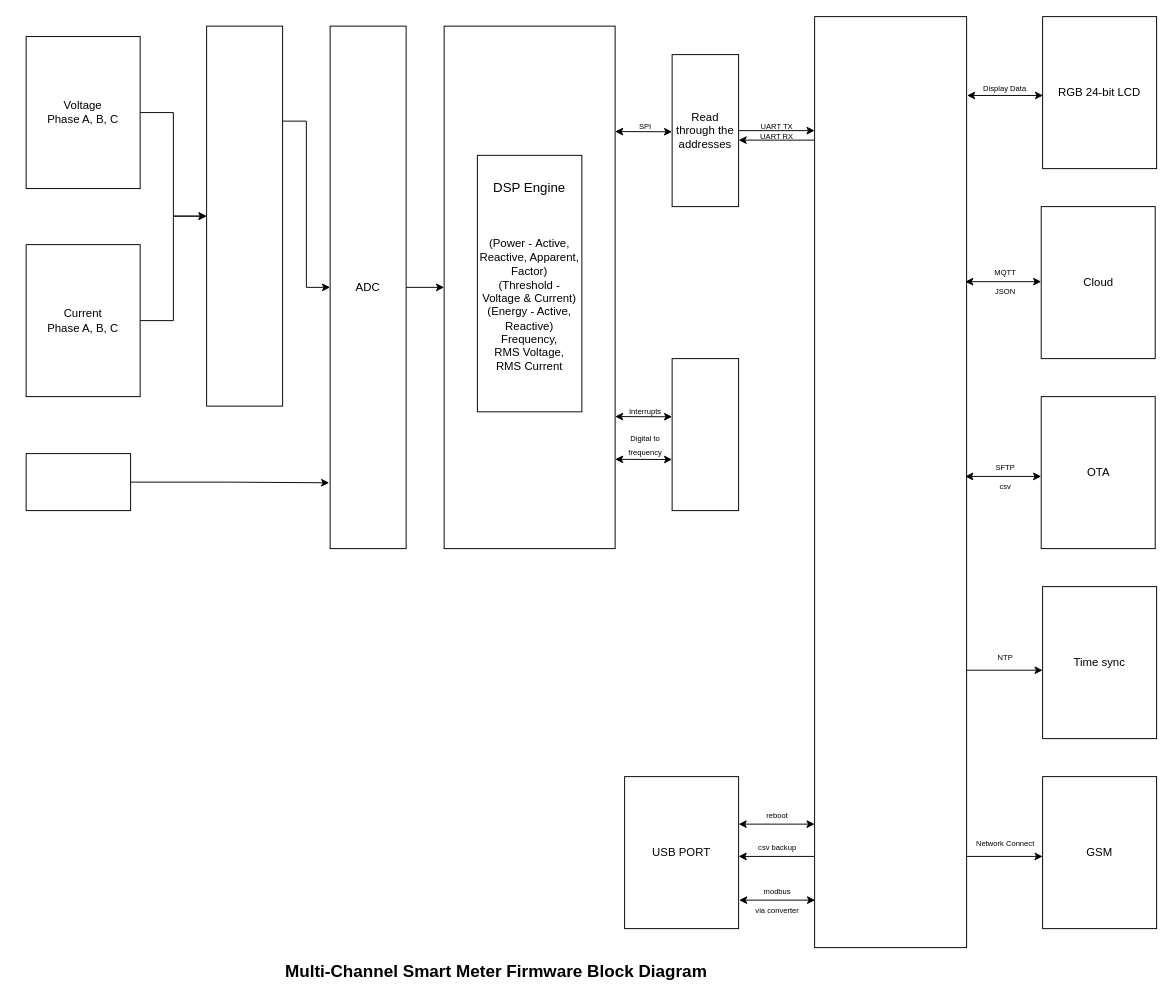
Image size: 1173x1002. Some labels were removed from this diagram. Each missing label, with the box of its shape:
Digital Block: (443, 25, 615, 549)
LEDs: (671, 358, 739, 511)
Main Processing Unit: (814, 16, 967, 948)
PGA: (206, 25, 283, 406)
Temperature: (25, 453, 131, 511)
